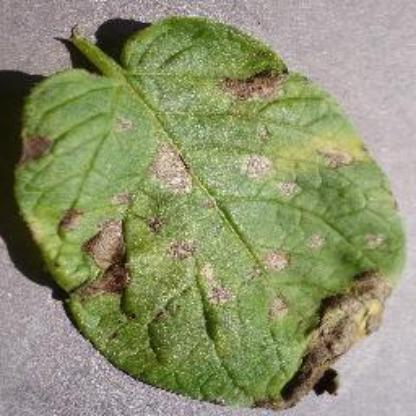Early-Blight: (11, 14, 410, 410)
